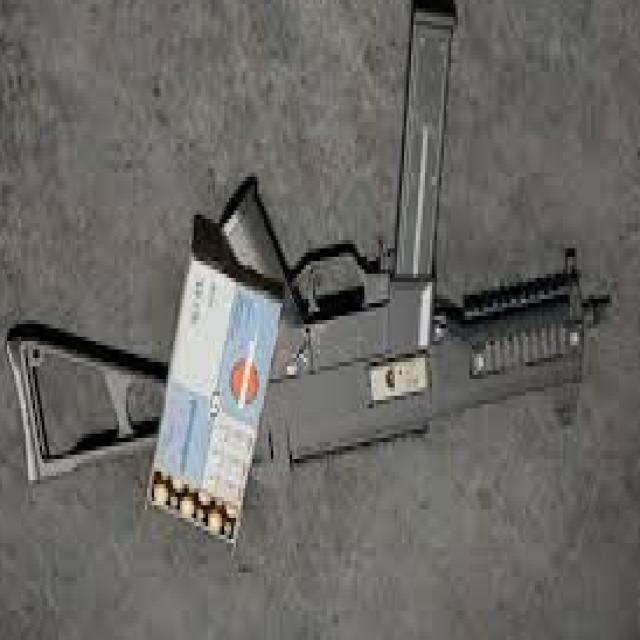Gun: (0, 0, 605, 564)
